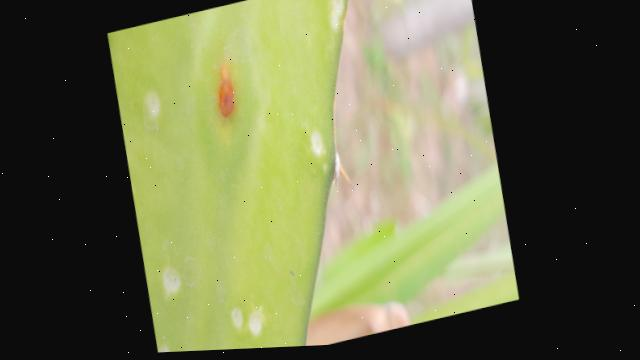stemcanker: (209, 55, 248, 129), (127, 77, 175, 134), (209, 304, 289, 335), (160, 255, 187, 302), (315, 0, 347, 35), (302, 120, 328, 158)
